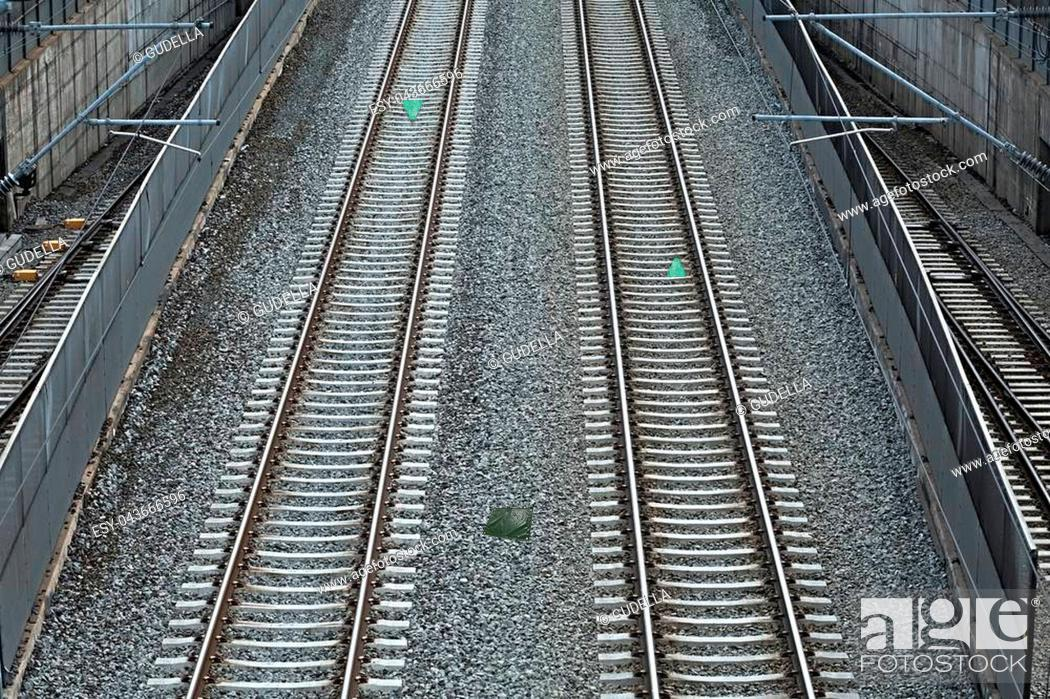Dust_screen: (486, 500, 534, 543), (396, 94, 431, 134), (666, 256, 687, 286)
